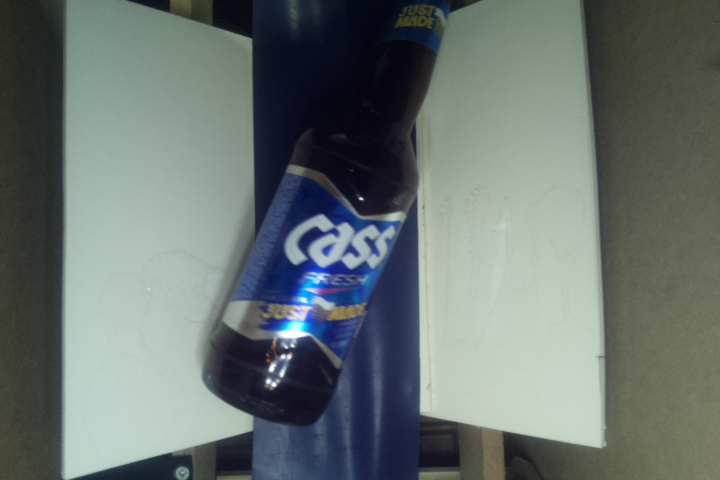makju: (200, 1, 449, 431)
